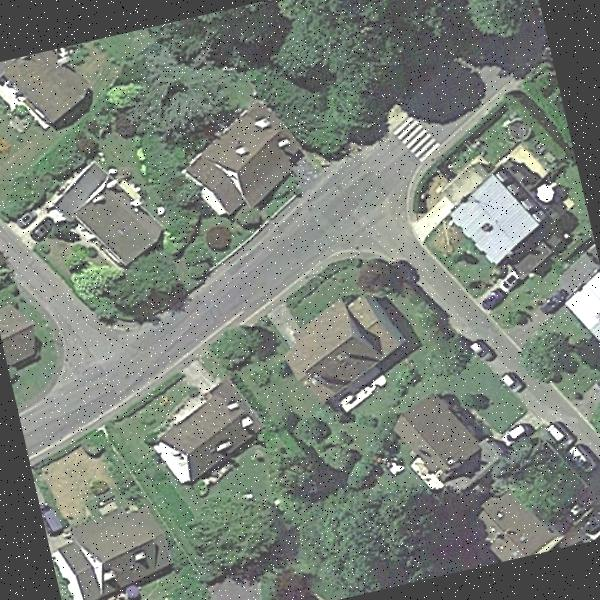Buildings: (54, 498, 176, 600), (58, 150, 160, 272), (282, 294, 396, 396), (146, 384, 262, 480), (192, 116, 302, 211), (447, 155, 543, 263), (389, 393, 480, 482), (474, 478, 555, 564), (10, 44, 88, 122), (566, 280, 600, 360), (0, 302, 40, 363)
